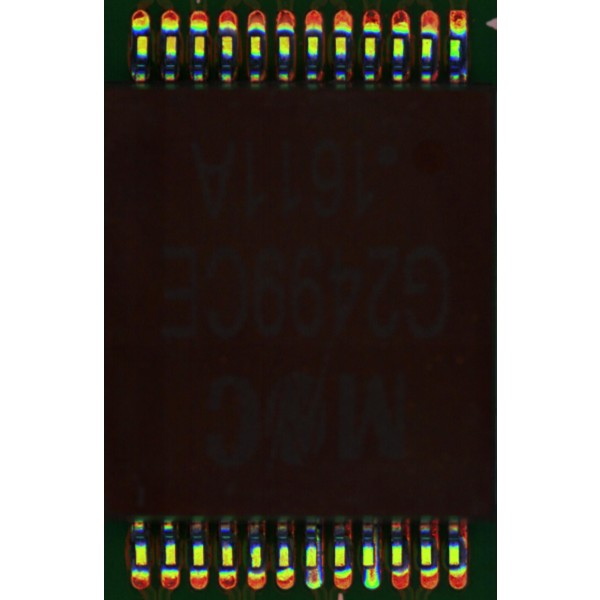Bad_podu: (308, 562, 317, 581), (366, 560, 375, 579)
Bad_qiaojiao: (374, 528, 379, 569), (316, 528, 321, 567)
